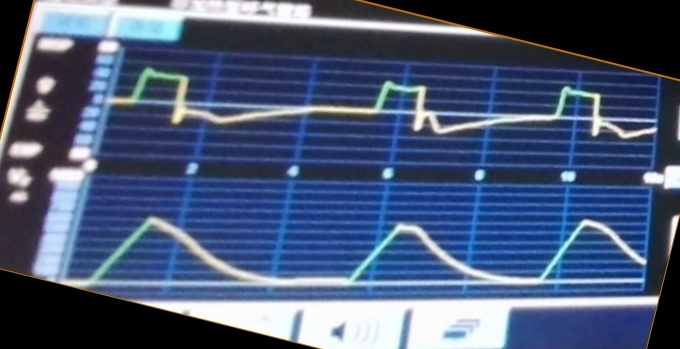Premature_cycling Flow: (119, 64, 652, 154)
Premature_cycling Volume: (86, 204, 644, 292)
